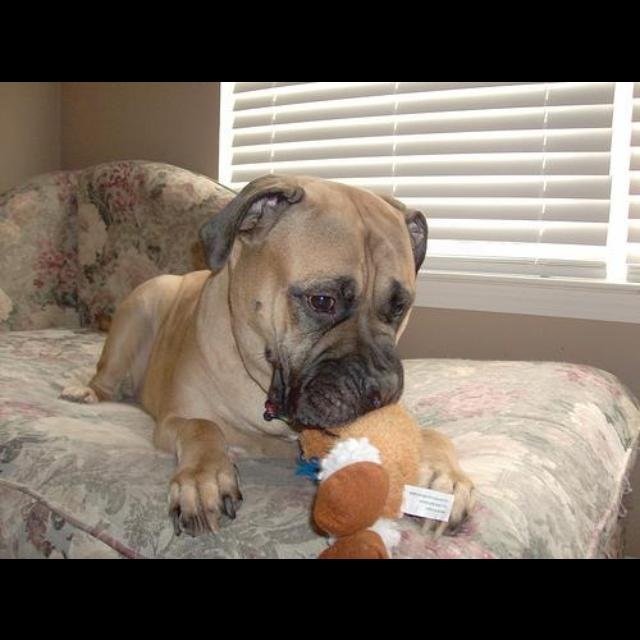bullmastiff: (59, 172, 477, 539)
